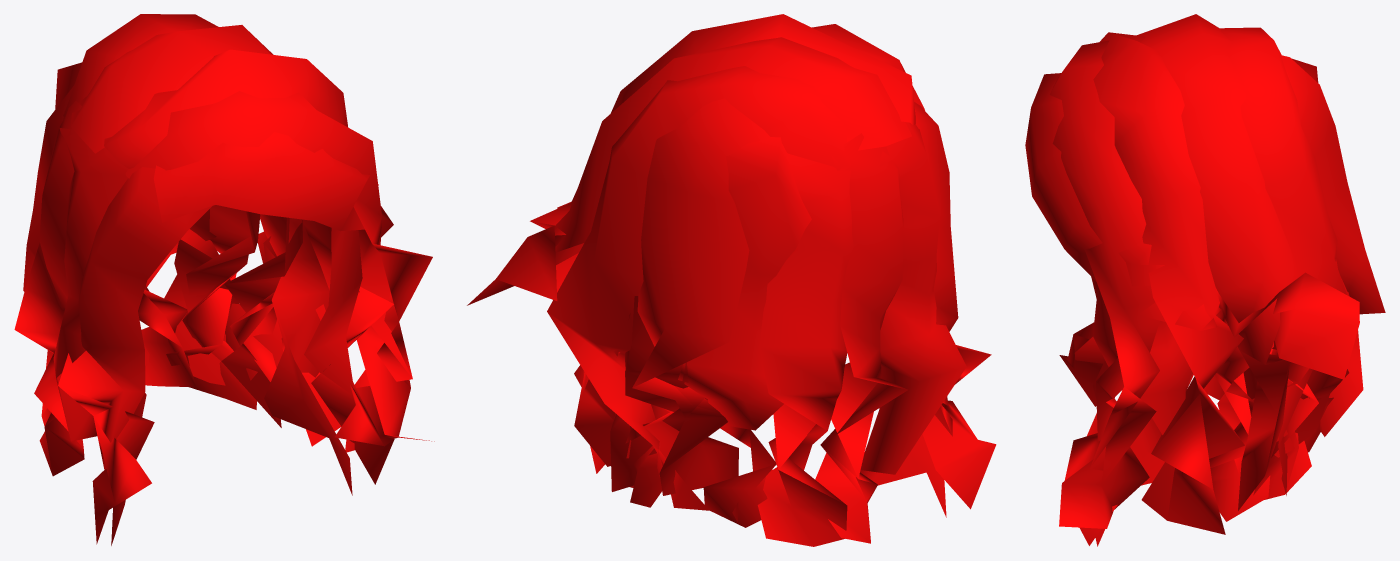
Rendered from cortu_strawberry_cloud_hair_F.glb.
3 renders of one model, left to right at view 1: azimuth 30°, elevation 25°; view 2: azimuth 150°, elevation 25°; view 3: azimuth 270°, elevation 25°, orthographic. The views are drawn at different scales.
Bounding box in the file's own units: 0.2793 × 0.3209 × 0.2298.
Materials: 1 (1 with a texture image).
